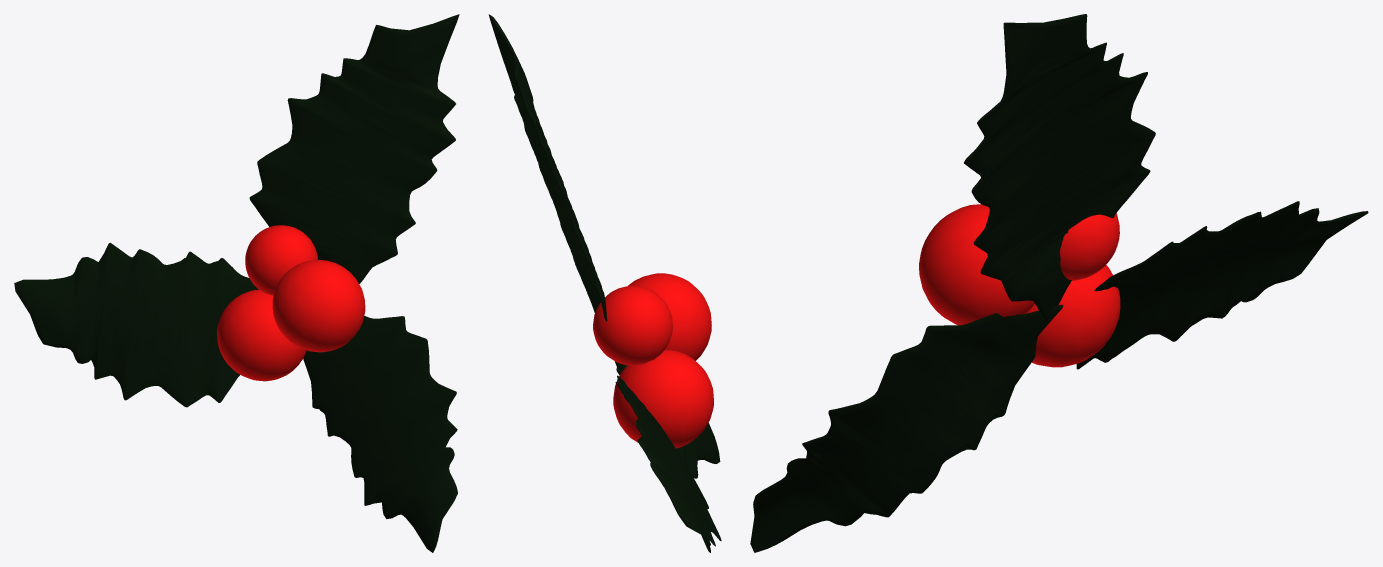
The picture shows the model from 3 angles, left to right: view 1: azimuth 30°, elevation 25°; view 2: azimuth 150°, elevation 25°; view 3: azimuth 270°, elevation 25°; orthographic projection. The views are drawn at different scales.
Parts seen in each view (by area): view 1: 332, berry; view 2: berry, 332; view 3: 332, berry.
Part boxes in pixels (bbox=[...]): 332: bbox=[14, 14, 459, 552]; berry: bbox=[217, 225, 365, 381]; berry: bbox=[593, 273, 713, 448]; 332: bbox=[488, 14, 721, 552]; 332: bbox=[750, 14, 1368, 552]; berry: bbox=[919, 204, 1120, 367].
Size of the model in its own units: 22.62 by 28.03 by 30.43.
